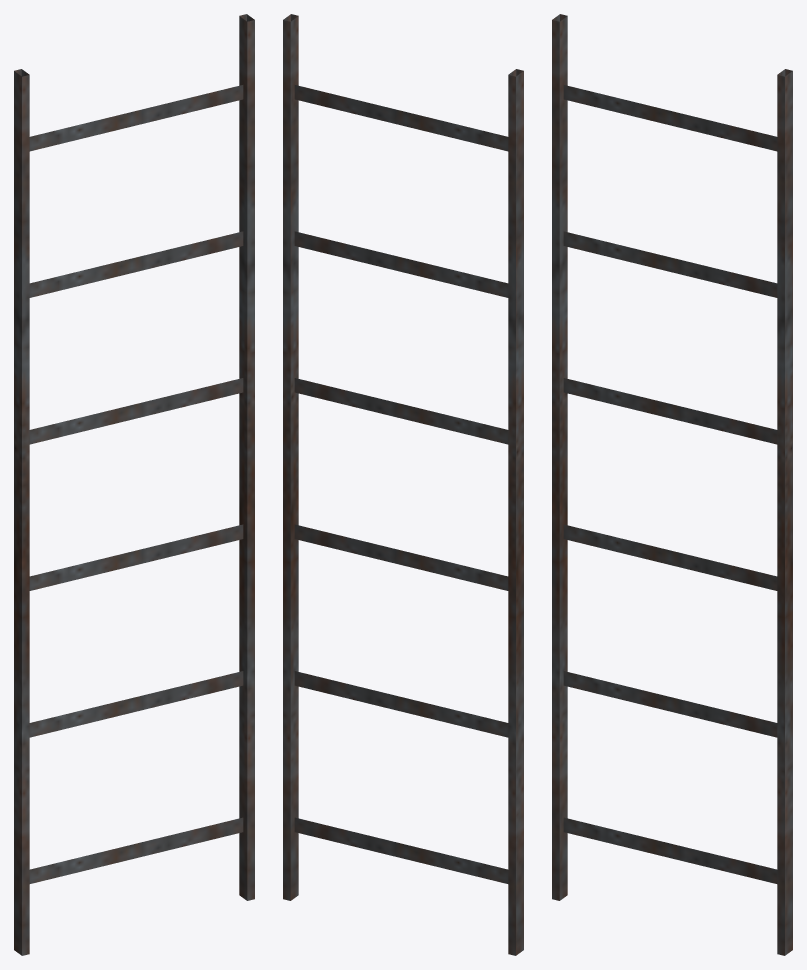
File: mMetalLadderS01.fbx
3 renders of one model, left to right at view 1: azimuth 30°, elevation 25°; view 2: azimuth 150°, elevation 25°; view 3: azimuth 330°, elevation 25°, orthographic.
Parts seen in each view (by area): view 1: MetalLadderS01; view 2: MetalLadderS01; view 3: MetalLadderS01.
Boxes of the visible parts, x1,y1,x2,y2 form: MetalLadderS01: (14,14,254,955); MetalLadderS01: (283,14,523,955); MetalLadderS01: (552,14,792,955).
Bounding box in the file's own units: 166 × 600 × 10.
